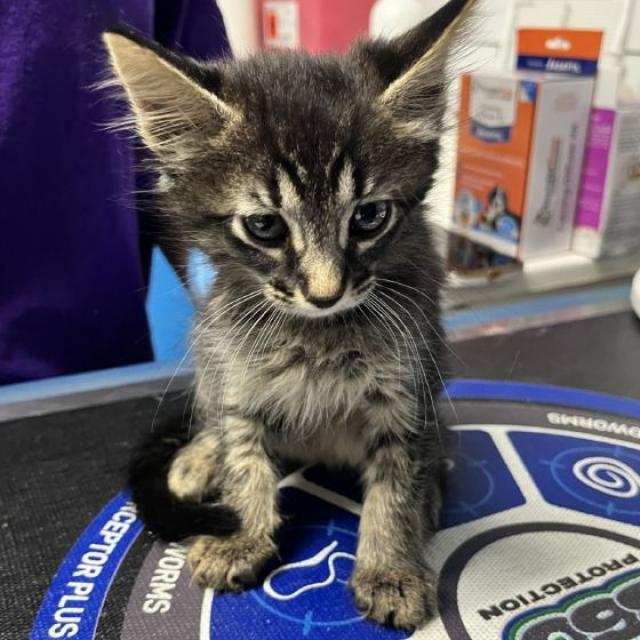domestic_short_hair_cat: (96, 0, 482, 341)
